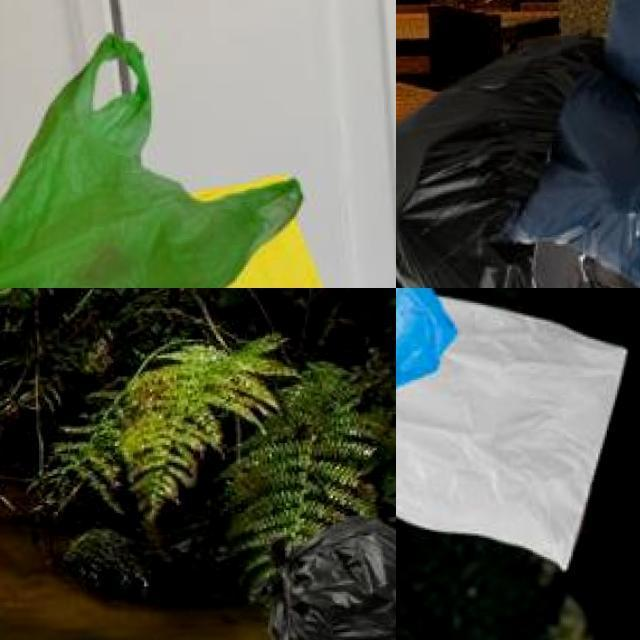waste: (0, 32, 301, 288), (396, 32, 640, 288), (9, 177, 350, 288), (524, 61, 640, 288), (259, 516, 396, 640)
